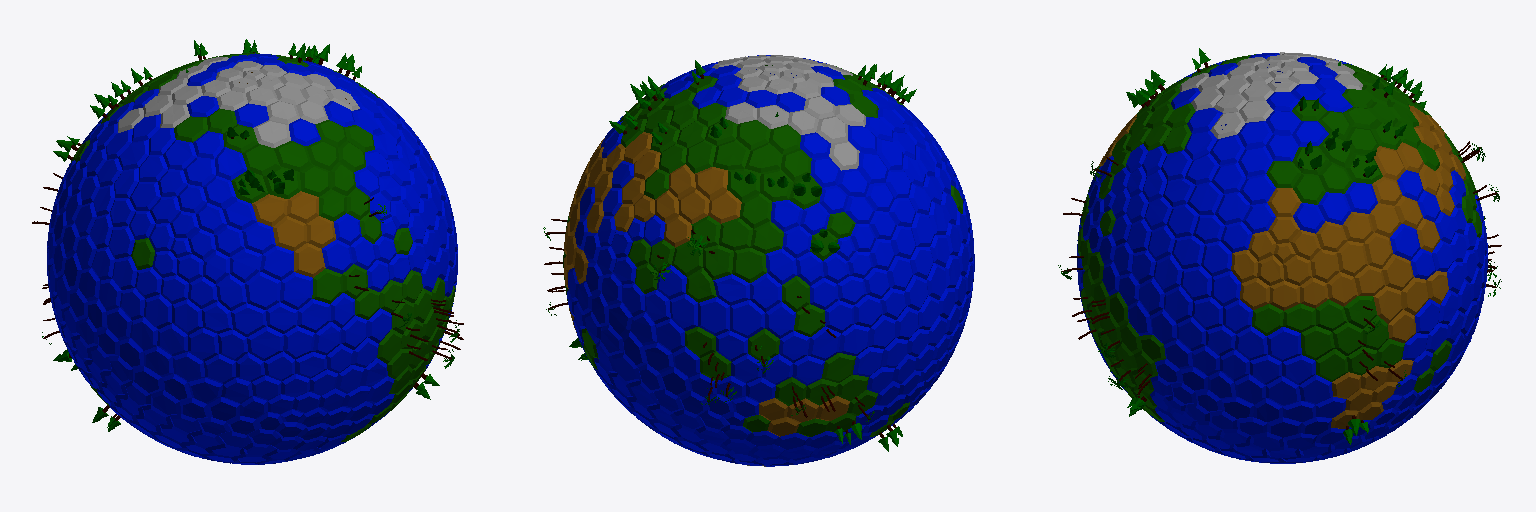
Rendered from liveEarth.obj.
The picture shows the model from 3 angles: view 1: azimuth 30°, elevation 25°; view 2: azimuth 150°, elevation 25°; view 3: azimuth 270°, elevation 25°; orthographic projection.
Visible parts, largest first — view 1: Earth_Details_Tree_0.001; view 2: Earth_Details_Tree_0.001; view 3: Earth_Details_Tree_0.001.
Boxes of the visible parts, x1=… form: Earth_Details_Tree_0.001: x1=32, y1=39, x2=463, y2=464; Earth_Details_Tree_0.001: x1=543, y1=55, x2=974, y2=466; Earth_Details_Tree_0.001: x1=1058, y1=48, x2=1501, y2=463.
Bounding box in the file's own units: 7.32 × 7.37 × 7.8.